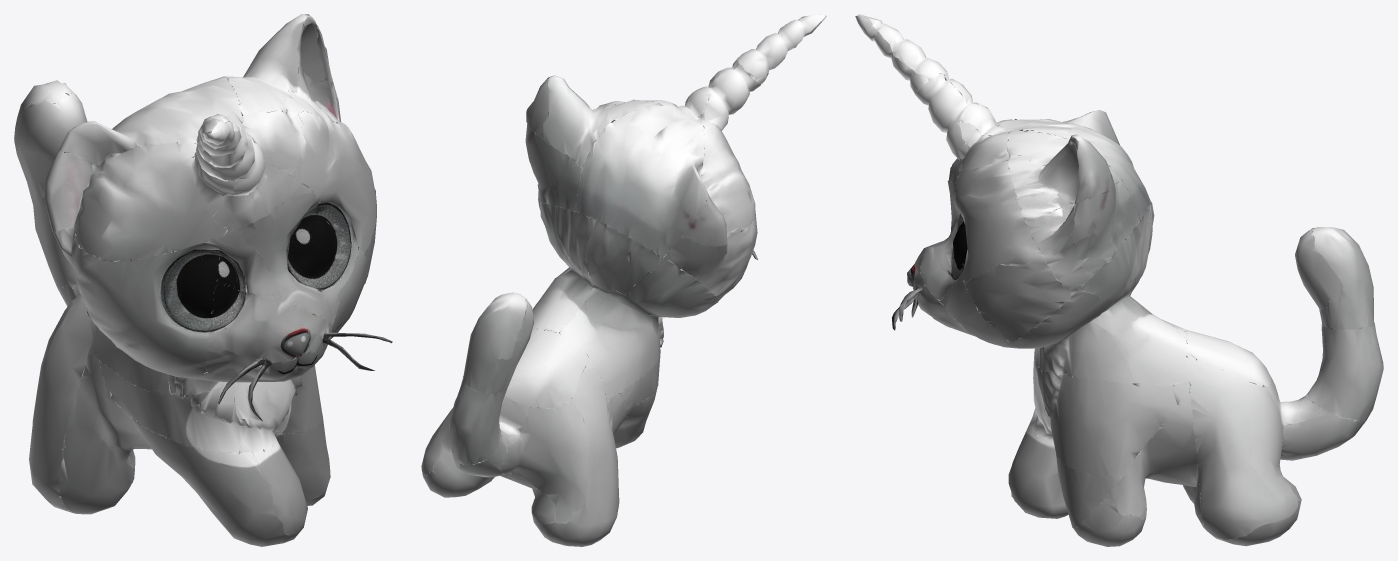
Rendered from craft_kitty.glb.
The picture shows the model from 3 angles, left to right: view 1: azimuth 30°, elevation 25°; view 2: azimuth 150°, elevation 25°; view 3: azimuth 270°, elevation 25°; orthographic projection. The views are drawn at different scales.
Visible parts, largest first — view 1: mesh_node; view 2: mesh_node; view 3: mesh_node.
Part boxes in pixels (x1,y1,x2,y2): mesh_node: [14, 14, 392, 546]; mesh_node: [421, 14, 826, 546]; mesh_node: [855, 14, 1383, 546].
Size of the model in its own units: 1.04 by 1.81 by 1.9.
1 material, 1 textured.
